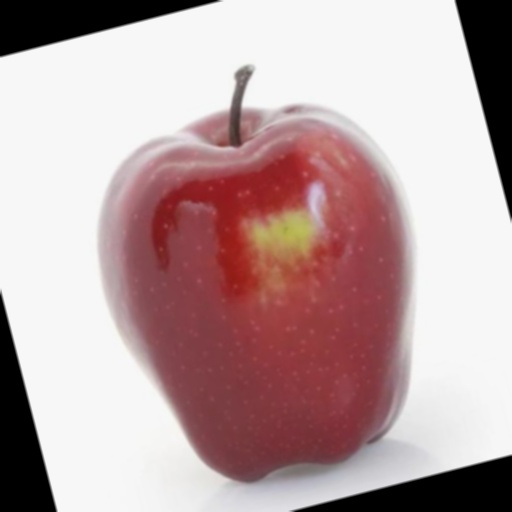fruit: (18, 154, 233, 512)
